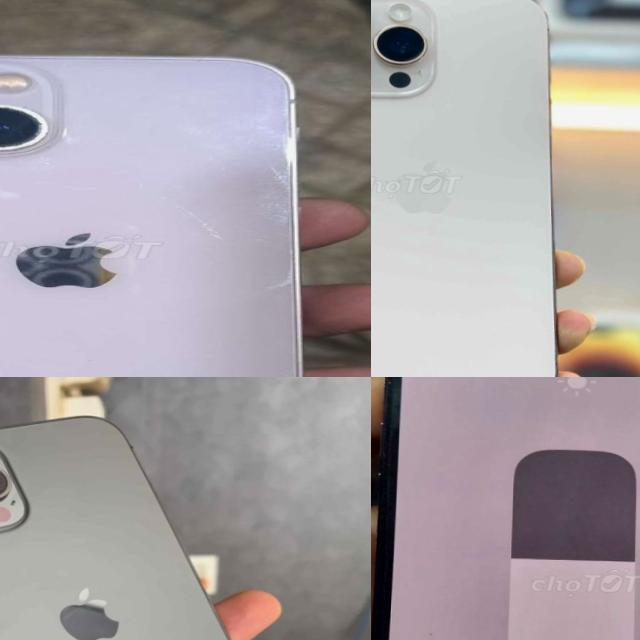gen_12_13: (0, 40, 322, 377), (371, 377, 640, 640), (0, 413, 310, 640)
gen_16: (371, 0, 583, 377)
